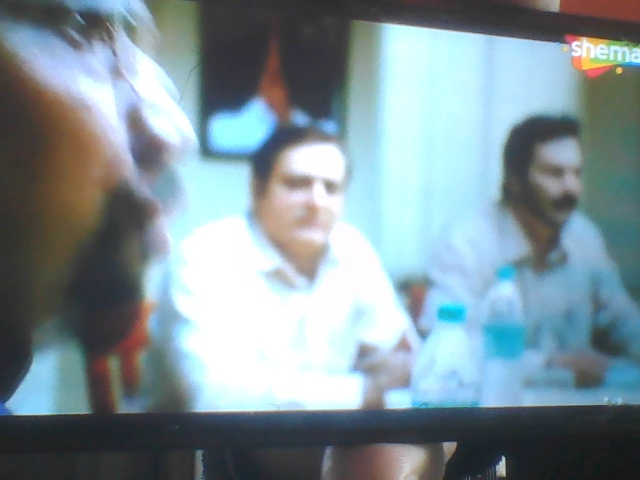fake: (250, 109, 355, 258)
